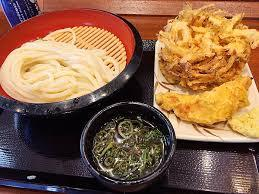kakiage: (162, 14, 249, 78)
